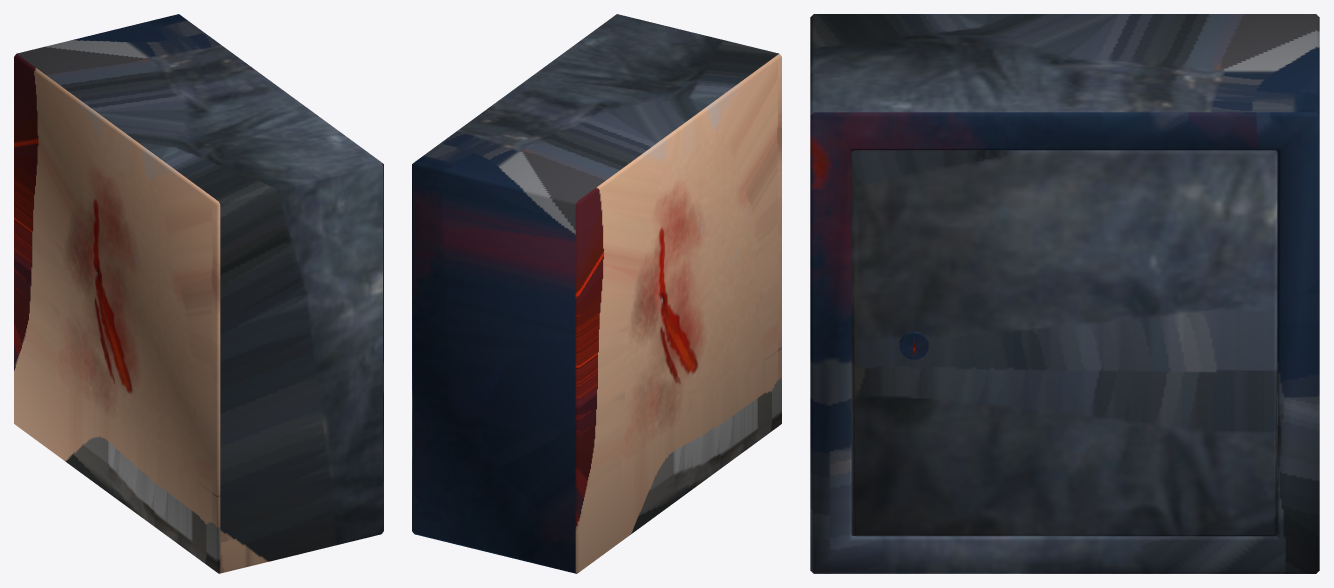
Rendered from electrical_panel.fbx.
The picture shows the model from 3 angles, left to right: view 1: azimuth 30°, elevation 25°; view 2: azimuth 150°, elevation 25°; view 3: azimuth 270°, elevation 25°; orthographic projection. The views are drawn at different scales.
Parts seen in each view (by area): view 1: electrical_panel; view 2: electrical_panel; view 3: electrical_panel_door, electrical_panel.
Part boxes in pixels (bbox=[...]): electrical_panel: bbox=[14, 14, 383, 573]; electrical_panel: bbox=[412, 14, 781, 573]; electrical_panel_door: bbox=[851, 150, 1277, 536]; electrical_panel: bbox=[810, 14, 1319, 573].
Bounding box in the file's own units: 11 × 22.93 × 22.93.
